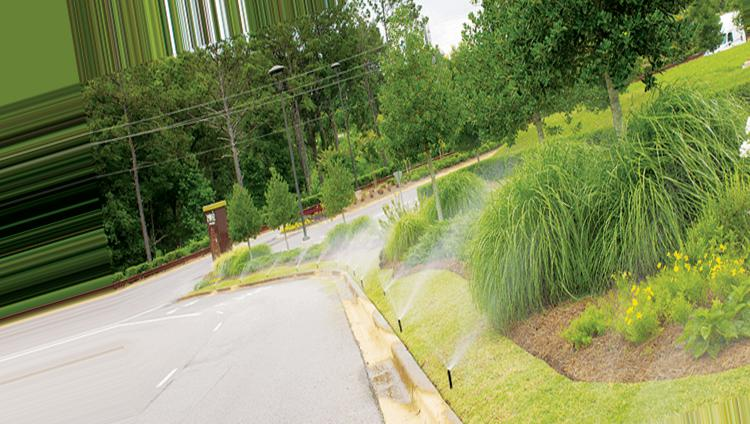patch: (577, 351, 653, 380), (526, 327, 559, 352), (653, 354, 690, 374)
